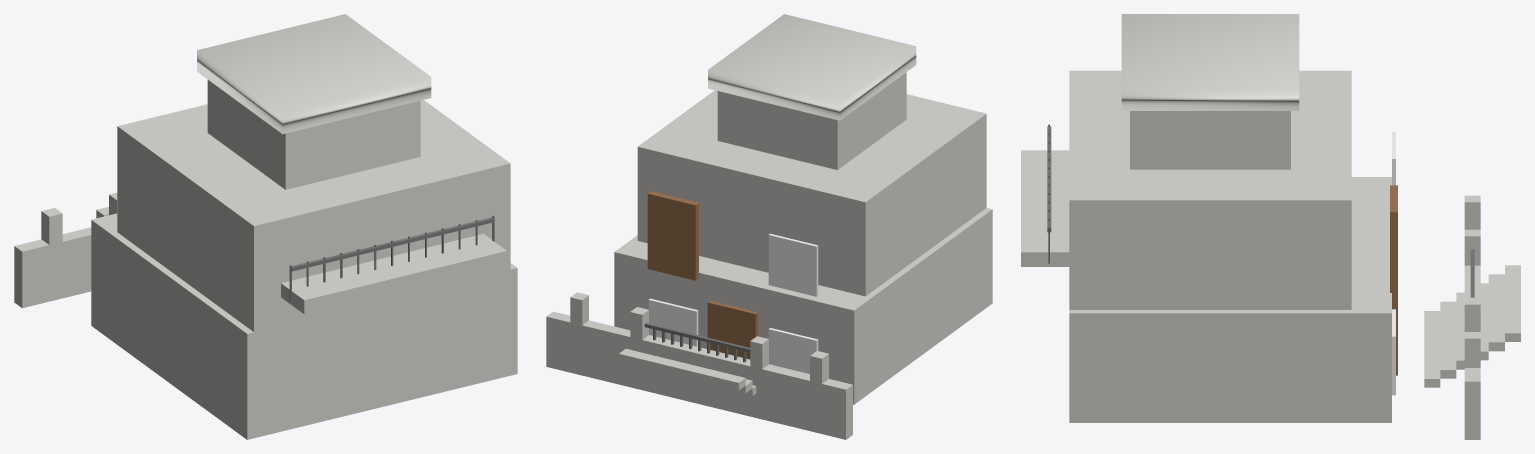
Rendered from house4.glb.
3 views of the same model, side by side, from view 1: azimuth 30°, elevation 25°; view 2: azimuth 150°, elevation 25°; view 3: azimuth 270°, elevation 25° (orthographic). The views are drawn at different scales.
Parts seen in each view (by area): view 1: Cube.001, Cube, Cube.046, Cube.002, Cube.003, Cube.029, Cube.030, Cube.004; view 2: Cube.001, Cube, Cube.029, Cube.046, Cube.002, Cube.021, Cube.022, Cube.018, Cube.028, Cube.019, Cube.020, Cube.031 (+4 smaller); view 3: Cube.001, Cube, Cube.046, Cube.002, Cube.003, Cube.029, Cube.024, Cube.027, Cube.023, Cube.028, Cube.021, Cube.025 (+6 smaller).
Boxes of the visible parts, left/top/right/bottom form: Cube.001: left=117, top=100, right=510, bottom=331; Cube: left=91, top=213, right=517, bottom=439; Cube.046: left=197, top=14, right=431, bottom=134; Cube.002: left=207, top=80, right=420, bottom=189; Cube.003: left=281, top=234, right=506, bottom=314; Cube.029: left=14, top=227, right=91, bottom=308; Cube.030: left=41, top=208, right=62, bottom=300; Cube.004: left=291, top=217, right=494, bottom=271; Cube.001: left=637, top=90, right=986, bottom=296; Cube: left=614, top=208, right=992, bottom=404; Cube.029: left=546, top=311, right=852, bottom=439; Cube.046: left=708, top=14, right=916, bottom=120; Cube.002: left=717, top=72, right=906, bottom=169; Cube.021: left=647, top=191, right=698, bottom=280; Cube.022: left=768, top=233, right=818, bottom=296; Cube.018: left=707, top=300, right=758, bottom=359; Cube.028: left=619, top=349, right=745, bottom=390; Cube.019: left=768, top=328, right=818, bottom=373; Cube.020: left=648, top=298, right=698, bottom=346; Cube.031: left=750, top=336, right=768, bottom=418; Cube.001: left=1069, top=70, right=1351, bottom=309; Cube: left=1069, top=177, right=1391, bottom=422; Cube.046: left=1121, top=14, right=1299, bottom=110; Cube.002: left=1130, top=111, right=1290, bottom=169; Cube.003: left=1021, top=150, right=1069, bottom=266; Cube.029: left=1464, top=265, right=1480, bottom=439; Cube.024: left=1440, top=301, right=1456, bottom=378; Cube.027: left=1488, top=274, right=1504, bottom=351; Cube.023: left=1424, top=311, right=1440, bottom=387; Cube.028: left=1505, top=265, right=1520, bottom=341; Cube.021: left=1390, top=185, right=1397, bottom=300; Cube.025: left=1456, top=292, right=1464, bottom=369.
Size of the model in its own units: 10 by 8.5 by 12.4.
